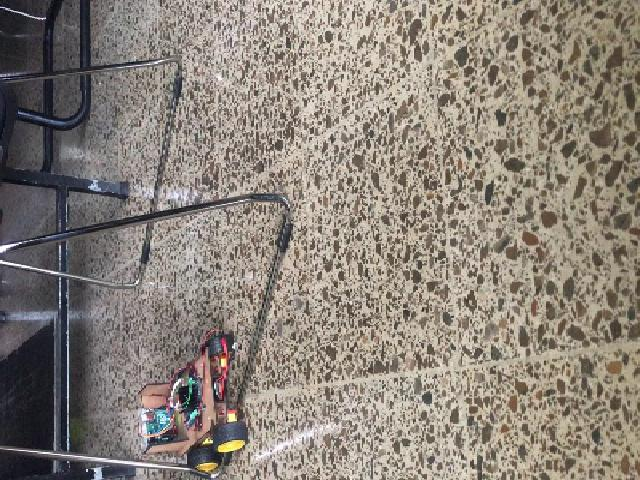Robot: (136, 334, 246, 472)
